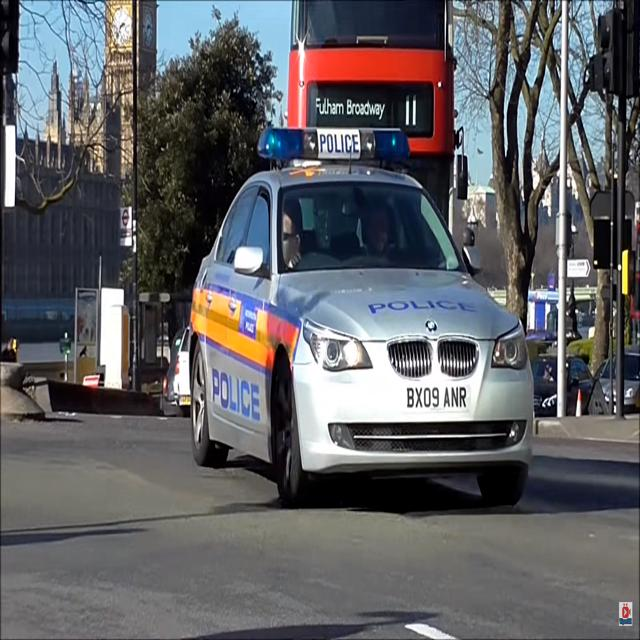emergency-vehicles: (170, 111, 550, 524)
